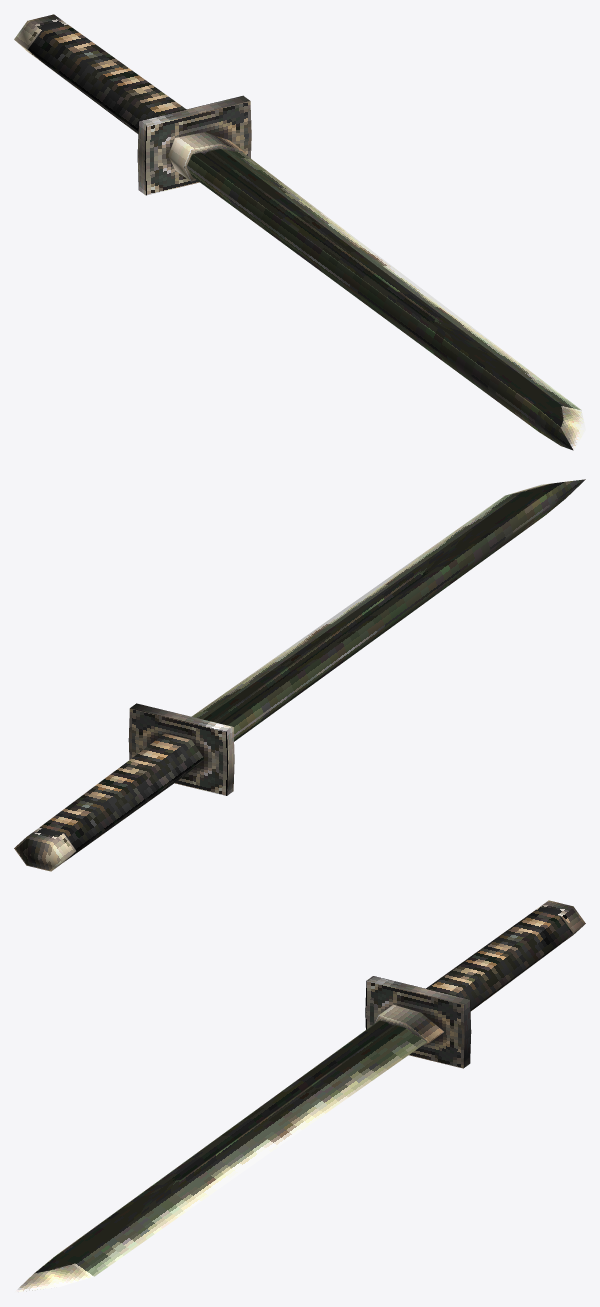
3 renders of one model, top to bottom at view 1: azimuth 30°, elevation 25°; view 2: azimuth 150°, elevation 25°; view 3: azimuth 330°, elevation 25°, orthographic. The views are drawn at different scales.
Parts seen in each view (by area): view 1: mesh00; view 2: mesh00; view 3: mesh00.
Boxes of the visible parts, x1,y1,x2,y2 form: mesh00: [14, 14, 585, 450]; mesh00: [14, 479, 585, 871]; mesh00: [14, 900, 585, 1292].
Bounding box in the file's own units: 11.74 × 7.26 × 108.
